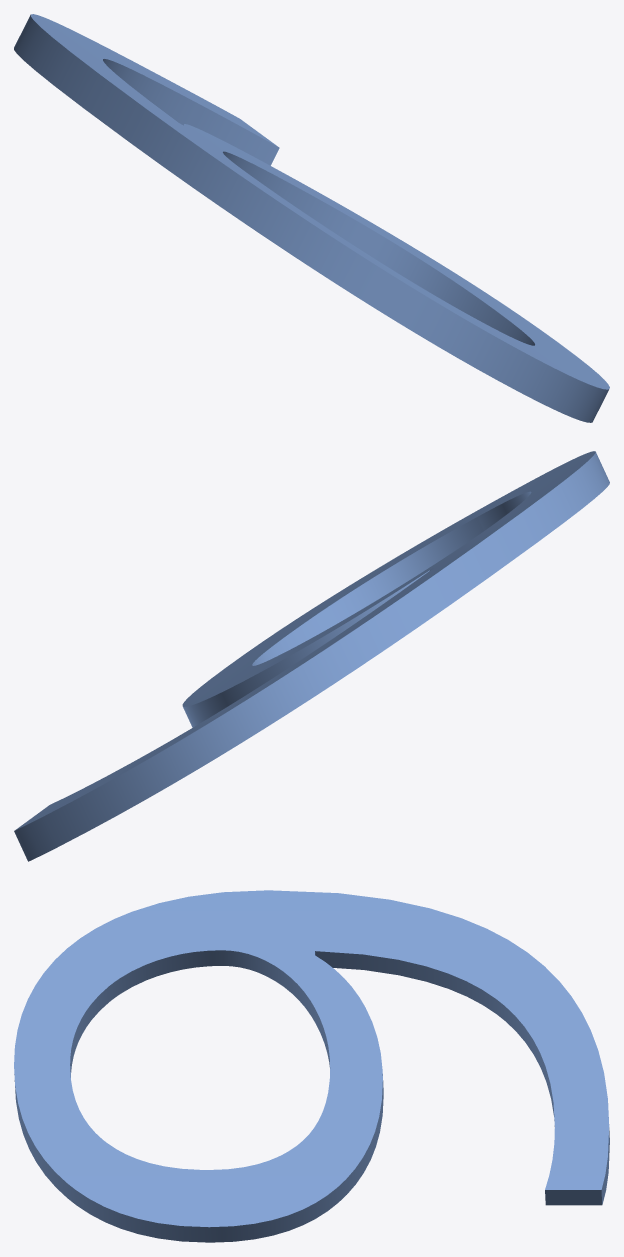
Rendered from New_Number_9.gltf.
The picture shows the model from 3 angles, top to bottom: view 1: azimuth 30°, elevation 25°; view 2: azimuth 150°, elevation 25°; view 3: azimuth 270°, elevation 25°; orthographic projection. The views are drawn at different scales.
Visible parts, largest first — view 1: Part 297; view 2: Part 297; view 3: Part 297.
Part boxes in pixels (<box>): Part 297: <box>14,14,609,422</box>; Part 297: <box>14,451,609,861</box>; Part 297: <box>14,890,609,1242</box>.
Bounding box in the file's own units: 0.00302 × 0.00241 × 0.00567.
